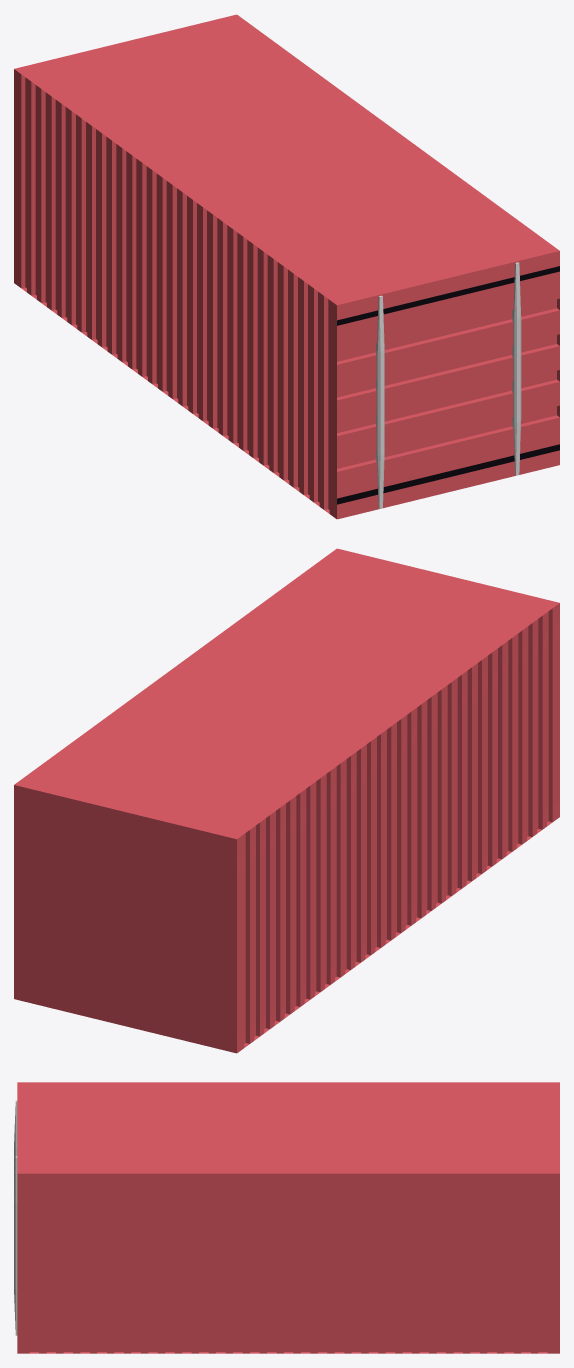
File: redcontainer.fbx
3 views of the same model, one above another, from view 1: azimuth 30°, elevation 25°; view 2: azimuth 150°, elevation 25°; view 3: azimuth 270°, elevation 25° (orthographic). The views are drawn at different scales.
Visible parts, largest first — view 1: Cube.002, Cube.004, Cube.003; view 2: Cube.002; view 3: Cube.002, Cube.004.
Boxes of the visible parts, box(x1,y1,x2,y2) form: Cube.002: box(14, 14, 559, 519); Cube.004: box(512, 262, 521, 475); Cube.003: box(376, 295, 384, 508); Cube.002: box(14, 548, 559, 1053); Cube.002: box(17, 1082, 559, 1353); Cube.004: box(14, 1156, 17, 1335).
Bounding box in the file's own units: 825 × 300 × 327.
